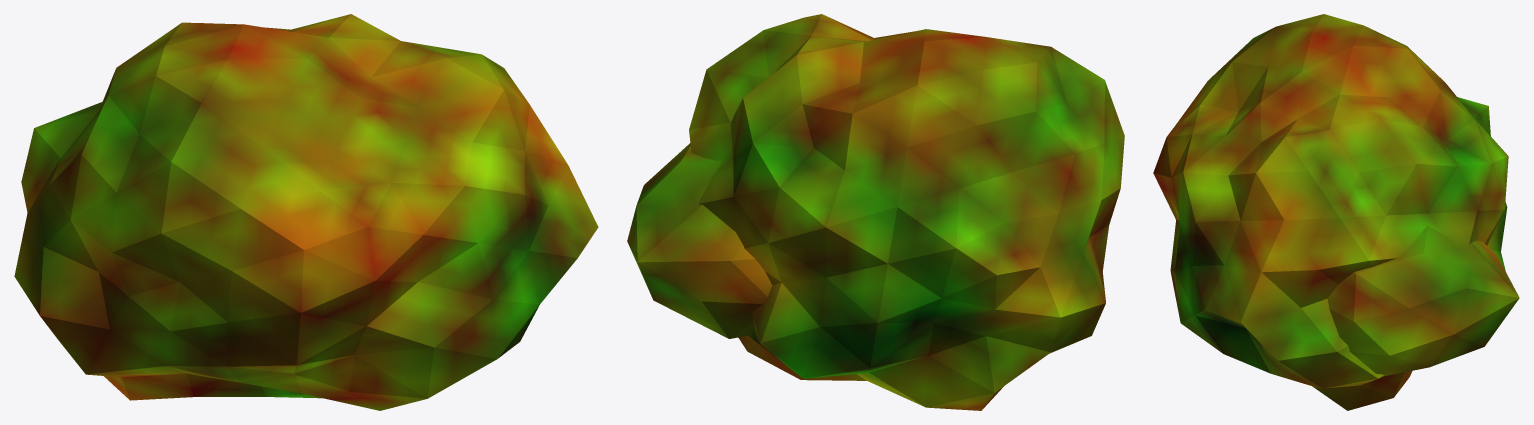
Rendered from 小型金矿_02_斜楔.fbx.
The picture shows the model from 3 angles, left to right: view 1: azimuth 30°, elevation 25°; view 2: azimuth 150°, elevation 25°; view 3: azimuth 270°, elevation 25°; orthographic projection. The views are drawn at different scales.
Parts seen in each view (by area): view 1: GoldOre_Small_02; view 2: GoldOre_Small_02; view 3: GoldOre_Small_02.
Part boxes in pixels (x1,y1,x2,y2): GoldOre_Small_02: [14, 14, 598, 410]; GoldOre_Small_02: [627, 14, 1124, 410]; GoldOre_Small_02: [1153, 14, 1519, 410].
Bounding box in the file's own units: 0.54 × 0.4 × 0.4447.
